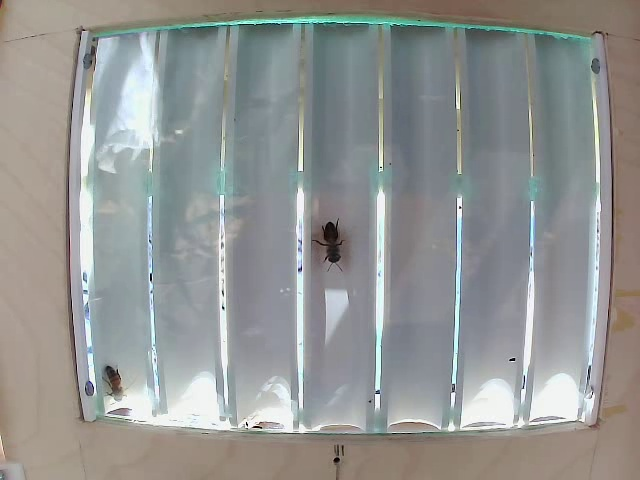bee: (310, 221, 357, 284), (99, 356, 140, 399)
